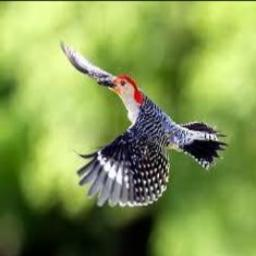Woodpecker: (60, 38, 227, 207)
